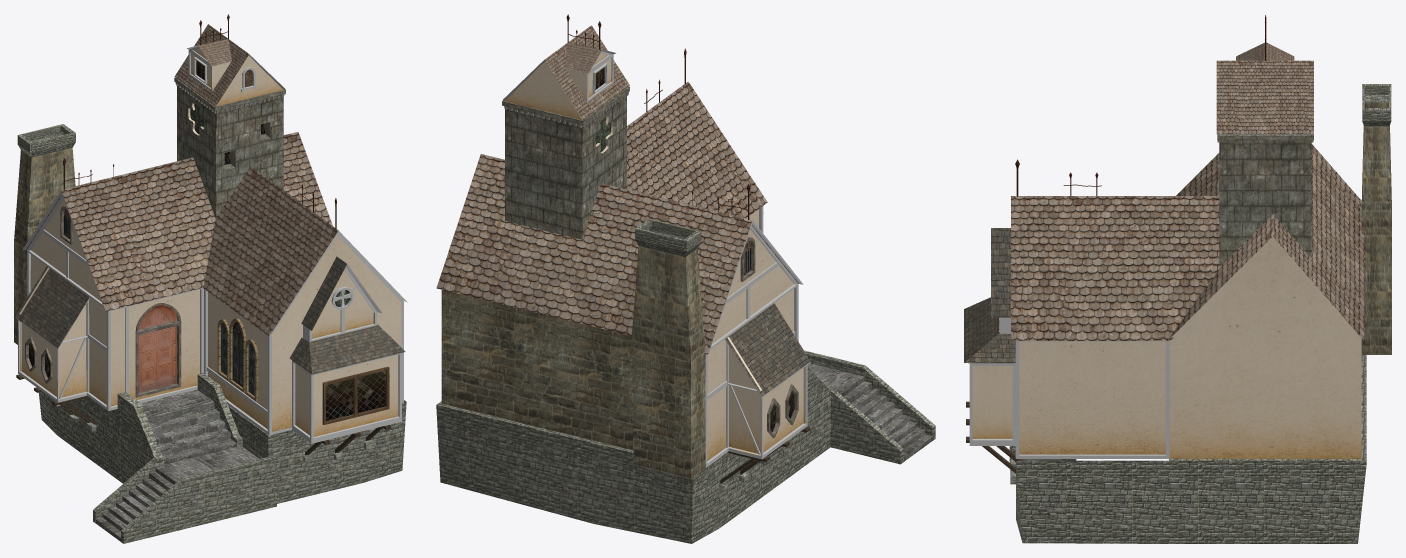
Rendered from MedievalHouseFrom3ds.FBX.
3 renders of one model, left to right at view 1: azimuth 30°, elevation 25°; view 2: azimuth 150°, elevation 25°; view 3: azimuth 270°, elevation 25°, orthographic. The views are drawn at different scales.
Parts seen in each view (by area): view 1: Box01, Box49, Box03, StraightStair01, Stairs01; view 2: Box01, Box49, Box03, Stairs01; view 3: Box01, Box49, Box03.
Boxes of the visible parts, x1,y1,x2,y2 form: Box01: (14, 124, 407, 443); Box49: (38, 373, 406, 543); Box03: (174, 24, 285, 218); StraightStair01: (141, 389, 236, 464); Stairs01: (96, 446, 258, 541); Box01: (436, 81, 810, 478); Box49: (436, 350, 935, 543); Box03: (502, 25, 629, 239); Stairs01: (807, 363, 932, 461); Box01: (964, 84, 1391, 458); Box49: (1009, 355, 1366, 543); Box03: (1216, 42, 1313, 264).
Size of the model in its own units: 127 by 169 by 139.
